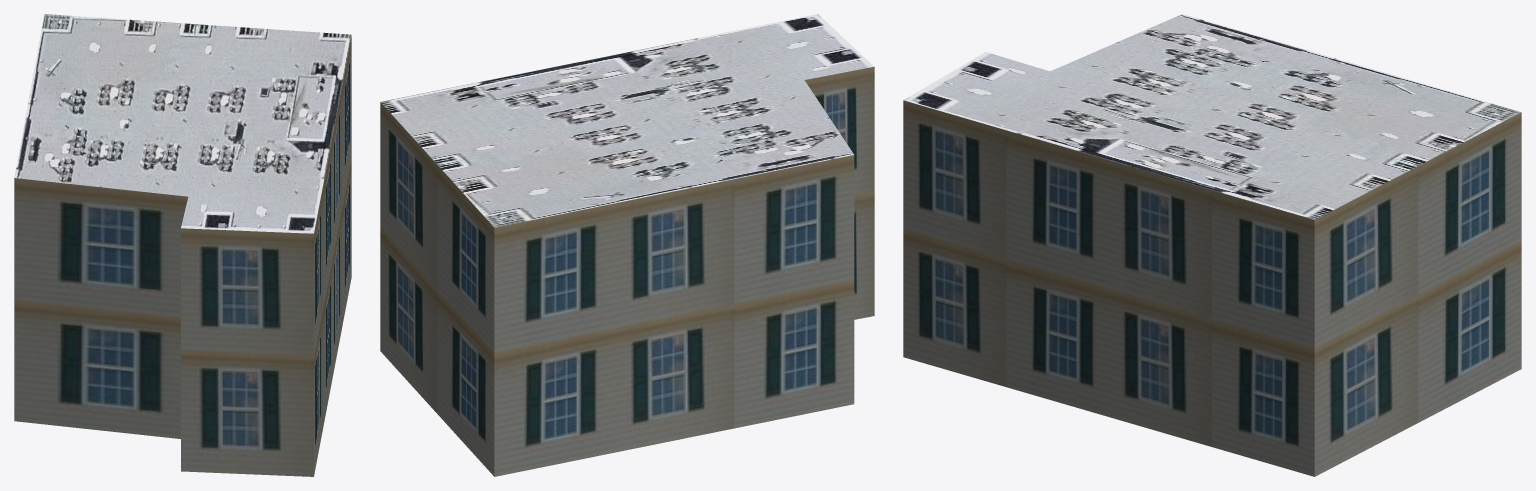
The model's file is ResTex__1932.fbx.
3 views of the same model, side by side, from view 1: azimuth 30°, elevation 25°; view 2: azimuth 150°, elevation 25°; view 3: azimuth 270°, elevation 25° (orthographic). The views are drawn at different scales.
Visible parts, largest first — view 1: CityEngineMaterial_7_m, CityEngineMaterial_4_m; view 2: CityEngineMaterial_7_m, CityEngineMaterial_4_m; view 3: CityEngineMaterial_7_m, CityEngineMaterial_4_m.
Part boxes in pixels (x1,y1,x2,y2): CityEngineMaterial_7_m: [14, 35, 351, 476]; CityEngineMaterial_4_m: [14, 14, 351, 233]; CityEngineMaterial_7_m: [380, 66, 874, 476]; CityEngineMaterial_4_m: [381, 14, 873, 227]; CityEngineMaterial_7_m: [903, 100, 1521, 476]; CityEngineMaterial_4_m: [904, 14, 1520, 219].
Bounding box in the file's own units: 10.32 × 6 × 13.08.
2 materials, 2 textured.
